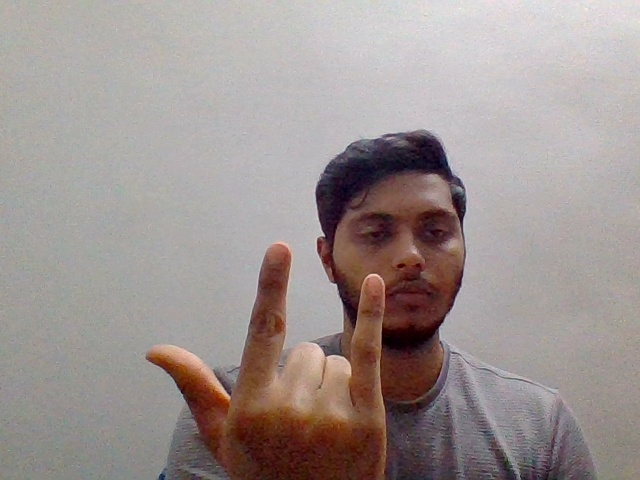I Love You: (139, 235, 402, 480)
